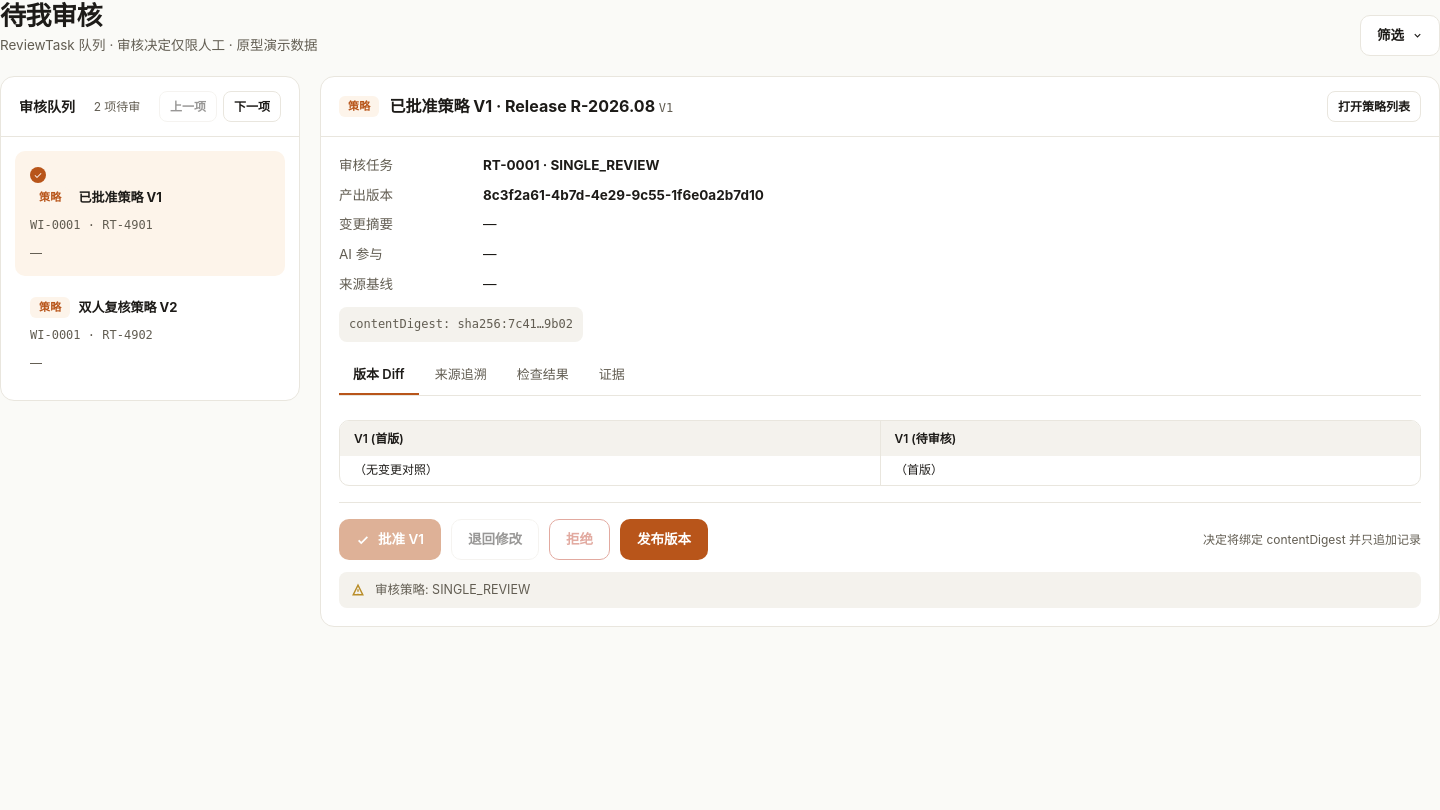
Scenario: ReviewsPage（WP-05 发布链与双人复核） › 发布失败透出后端错误信息
This screenshot has width=1440, height=810.
Expected: the text "已批准策略 V1" is shown, top-left (78, 187), bottom-right (162, 208)
Click the button "发布版本".
click(664, 540)  # box top-left (620, 519), bottom-right (708, 560)
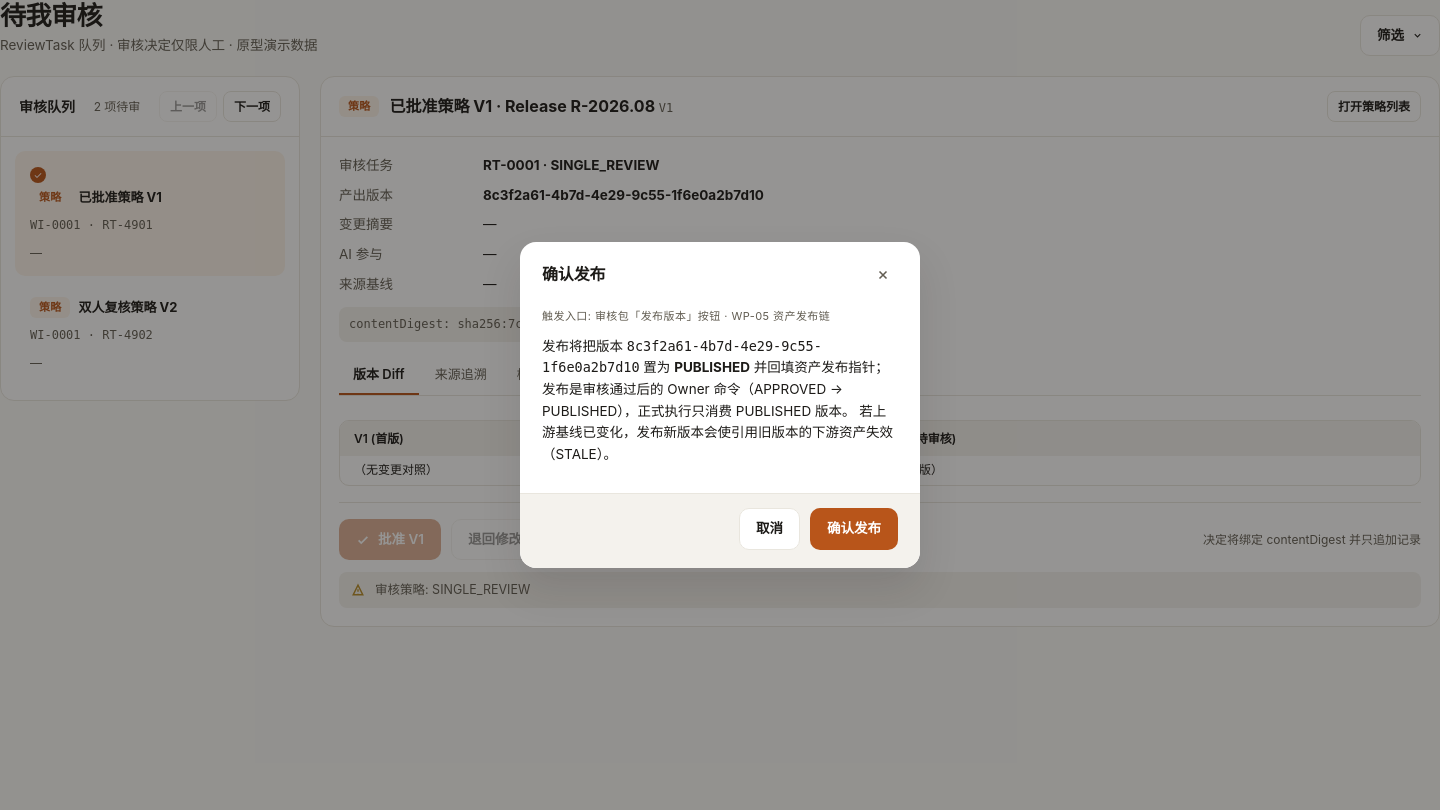
Click the button "确认发布".
click(854, 529)  # box top-left (810, 508), bottom-right (898, 550)
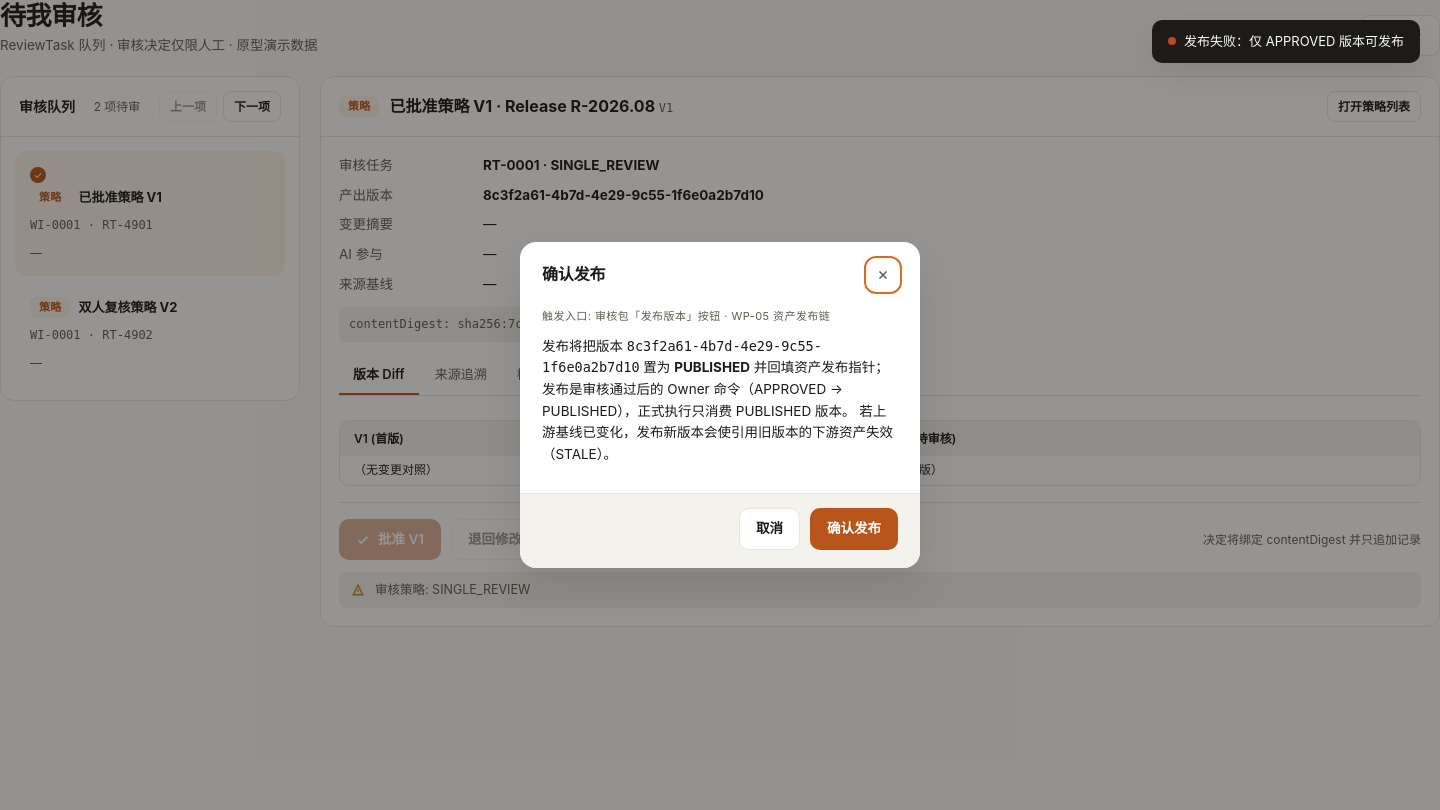
Expected: the text "发布失败：仅 APPROVED 版本可发布" is shown, top-left (1152, 20), bottom-right (1420, 63)
